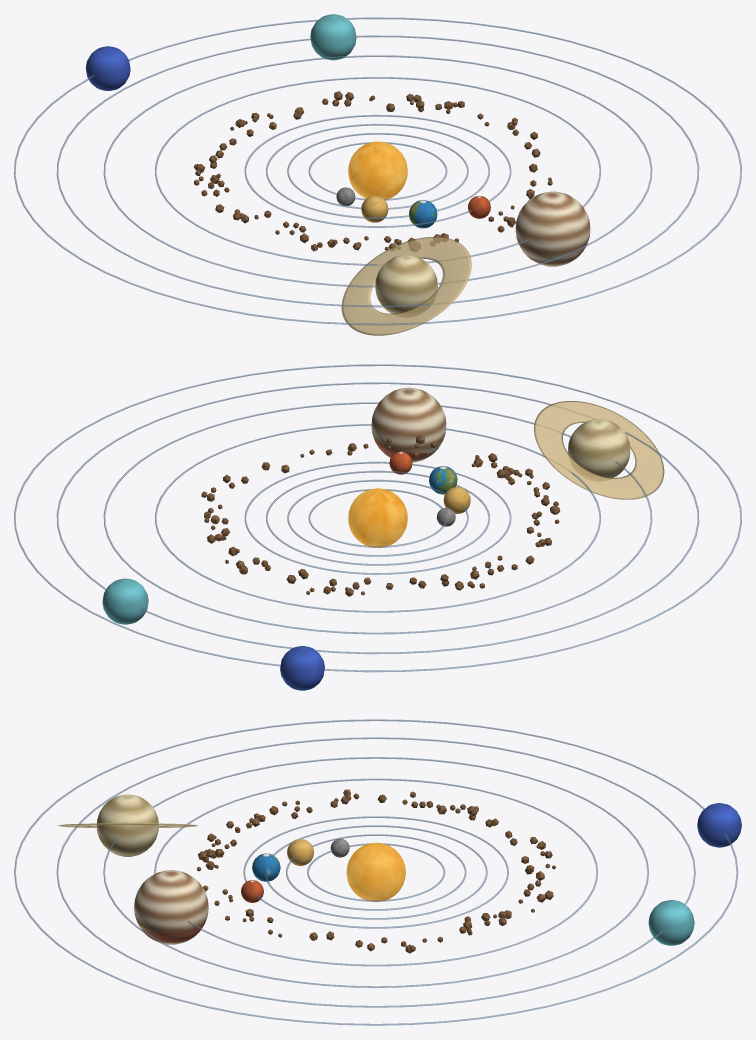
File: zona-planet.glb
The picture shows the model from 3 angles, top to bottom: view 1: azimuth 30°, elevation 25°; view 2: azimuth 150°, elevation 25°; view 3: azimuth 270°, elevation 25°; orthographic projection.
Parts seen in each view (by area): view 1: CincinSaturnus, jupiter, SabukAsteroid, Orbitneptunus, Orbituranus, saturnus, Matahari, Orbitsaturnus, Orbitjupiter, uranus, neptunus, Orbitmars (+5 smaller); view 2: CincinSaturnus, jupiter, SabukAsteroid, Orbitneptunus, saturnus, Orbituranus, Matahari, Orbitsaturnus, Orbitjupiter, uranus, neptunus, Orbitmars (+5 smaller); view 3: jupiter, SabukAsteroid, Orbitneptunus, Orbituranus, saturnus, Matahari, Orbitsaturnus, Orbitjupiter, uranus, neptunus, Orbitmars, Orbitbumi (+4 smaller).
Boxes of the visible parts, x1,y1,x2,y2 form: CincinSaturnus: [341, 236, 471, 335]; jupiter: [515, 191, 590, 266]; SabukAsteroid: [194, 91, 552, 251]; Orbitneptunus: [14, 17, 741, 325]; Orbituranus: [56, 35, 699, 307]; saturnus: [375, 255, 437, 316]; Matahari: [348, 141, 407, 199]; Orbitsaturnus: [103, 55, 652, 287]; Orbitjupiter: [155, 77, 600, 265]; uranus: [310, 14, 356, 60]; neptunus: [85, 46, 130, 90]; Orbitmars: [244, 114, 511, 227]; CincinSaturnus: [534, 401, 664, 499]; jupiter: [371, 387, 446, 462]; SabukAsteroid: [201, 435, 560, 596]; Orbitneptunus: [14, 364, 741, 672]; saturnus: [567, 419, 630, 480]; Orbituranus: [56, 382, 699, 654]; Matahari: [348, 488, 407, 547]; Orbitsaturnus: [103, 402, 652, 634]; Orbitjupiter: [155, 424, 600, 612]; uranus: [102, 578, 148, 624]; neptunus: [280, 646, 324, 690]; Orbitmars: [244, 461, 511, 574]; jupiter: [134, 870, 208, 944]; SabukAsteroid: [196, 789, 555, 953]; Orbitneptunus: [14, 719, 738, 1025]; Orbituranus: [56, 737, 695, 1007]; saturnus: [96, 794, 158, 856]; Matahari: [346, 842, 405, 902]; Orbitsaturnus: [103, 757, 648, 987]; Orbitjupiter: [154, 778, 597, 966]; uranus: [648, 900, 694, 945]; neptunus: [697, 803, 741, 847]; Orbitmars: [243, 816, 508, 928]; Orbitbumi: [265, 825, 487, 919].
Bounding box in the file's own units: 0.7674 × 0.0792 × 0.7712.
12 materials, 10 textured.
